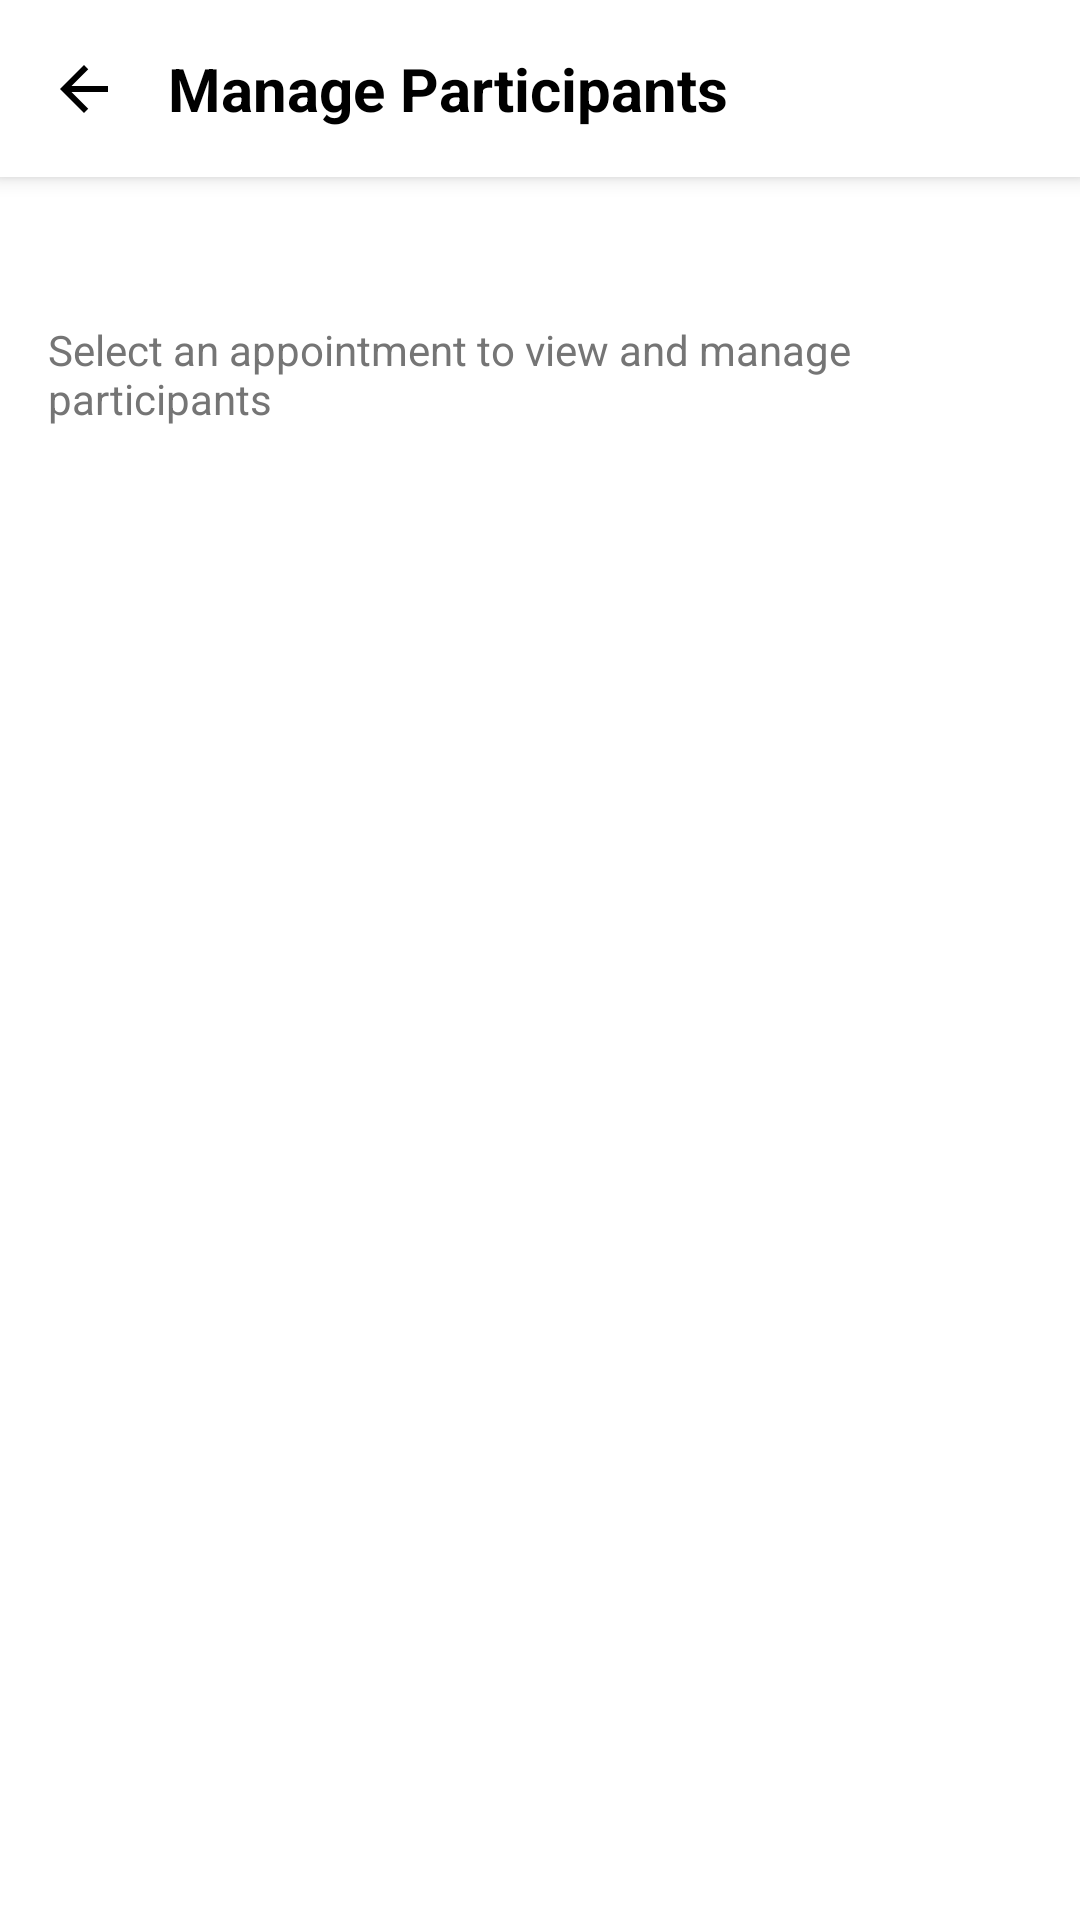

Named icons in this screenshot (1080 x 1920) and their bounding boxes, region(x1, y1, x2, y2):
Back: region(60, 65, 108, 113)
